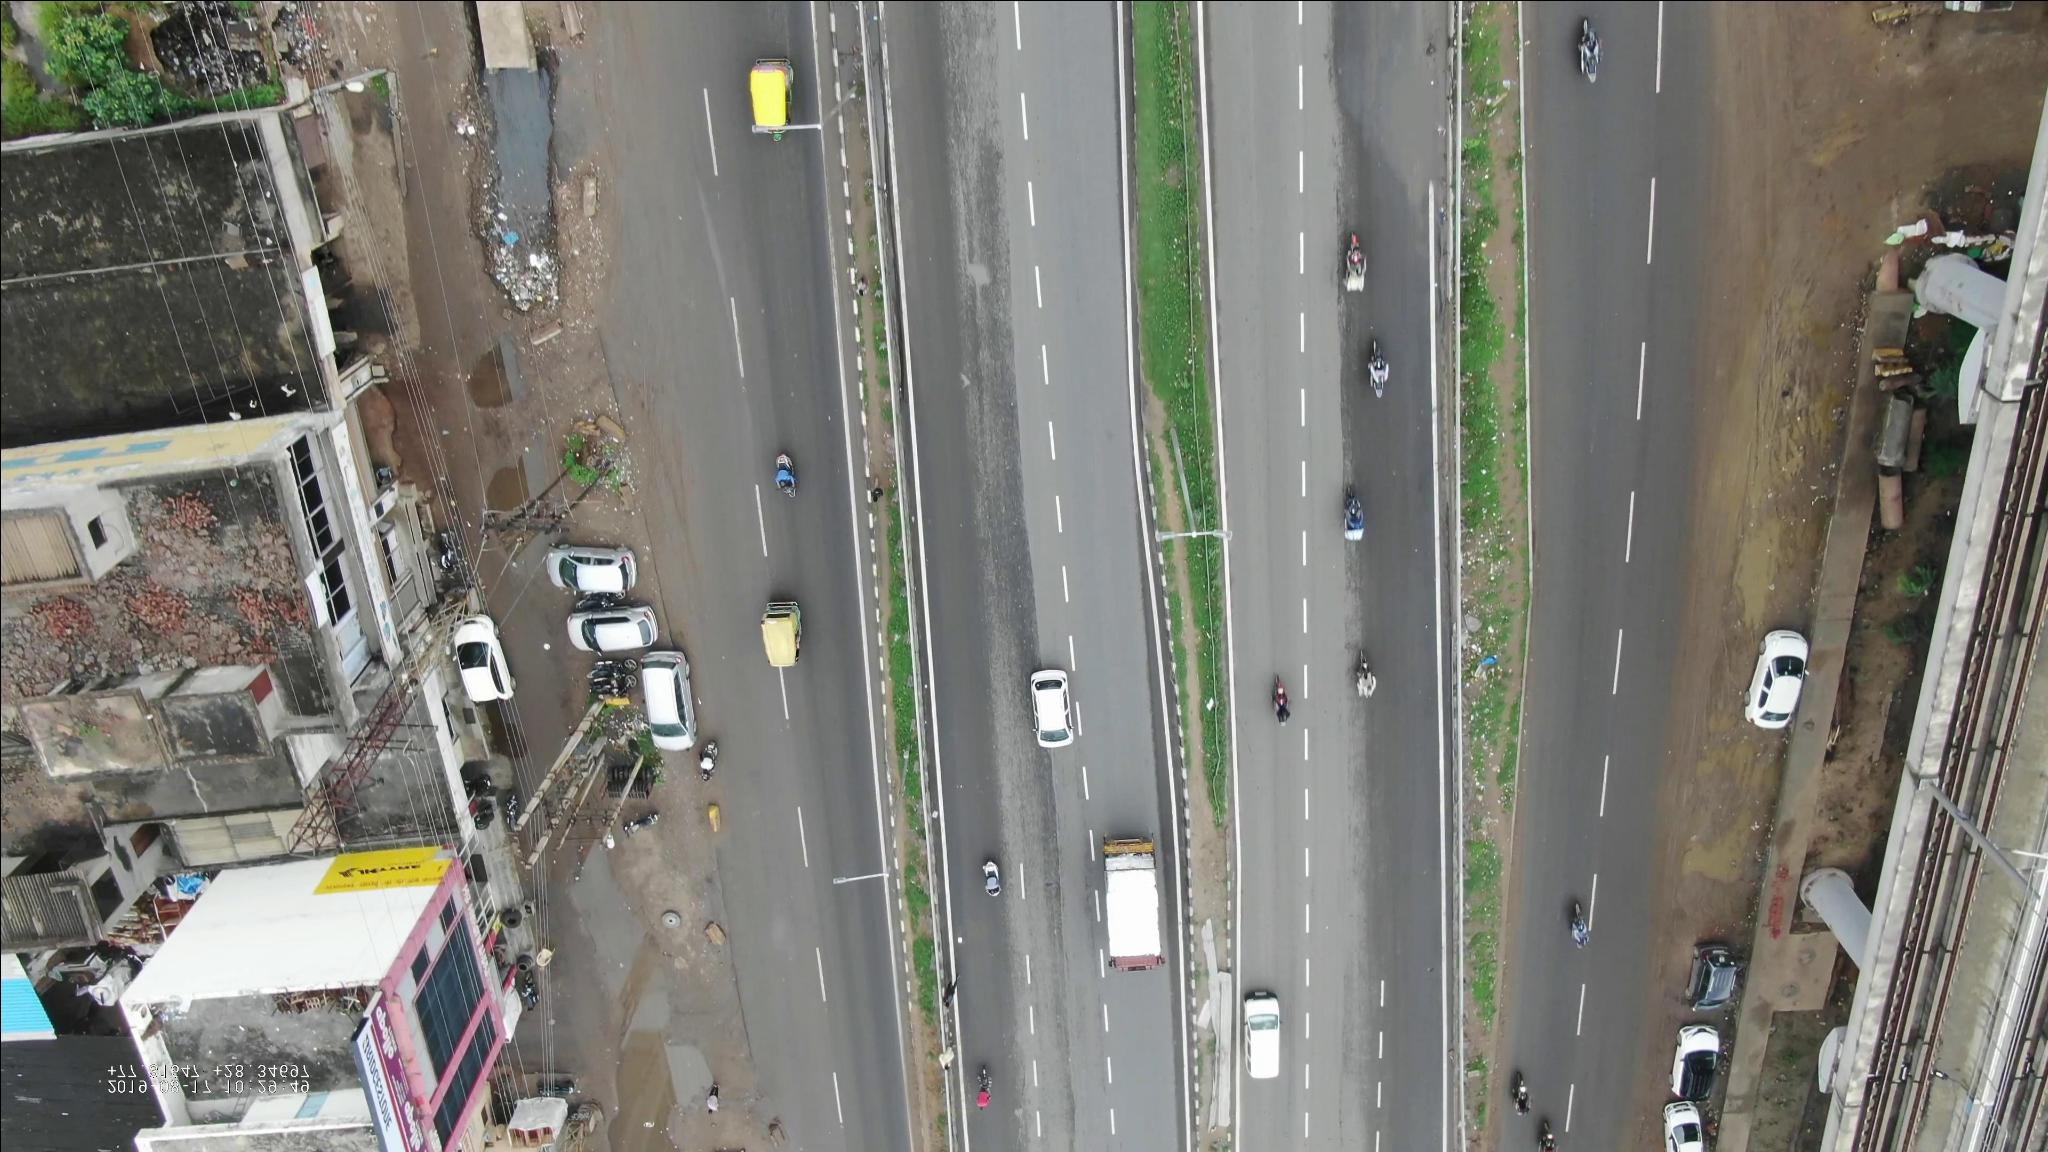Muddy_road: (1715, 63, 1841, 383), (1732, 394, 1807, 617), (1678, 734, 1755, 907)
Potholes: (466, 70, 617, 361)
